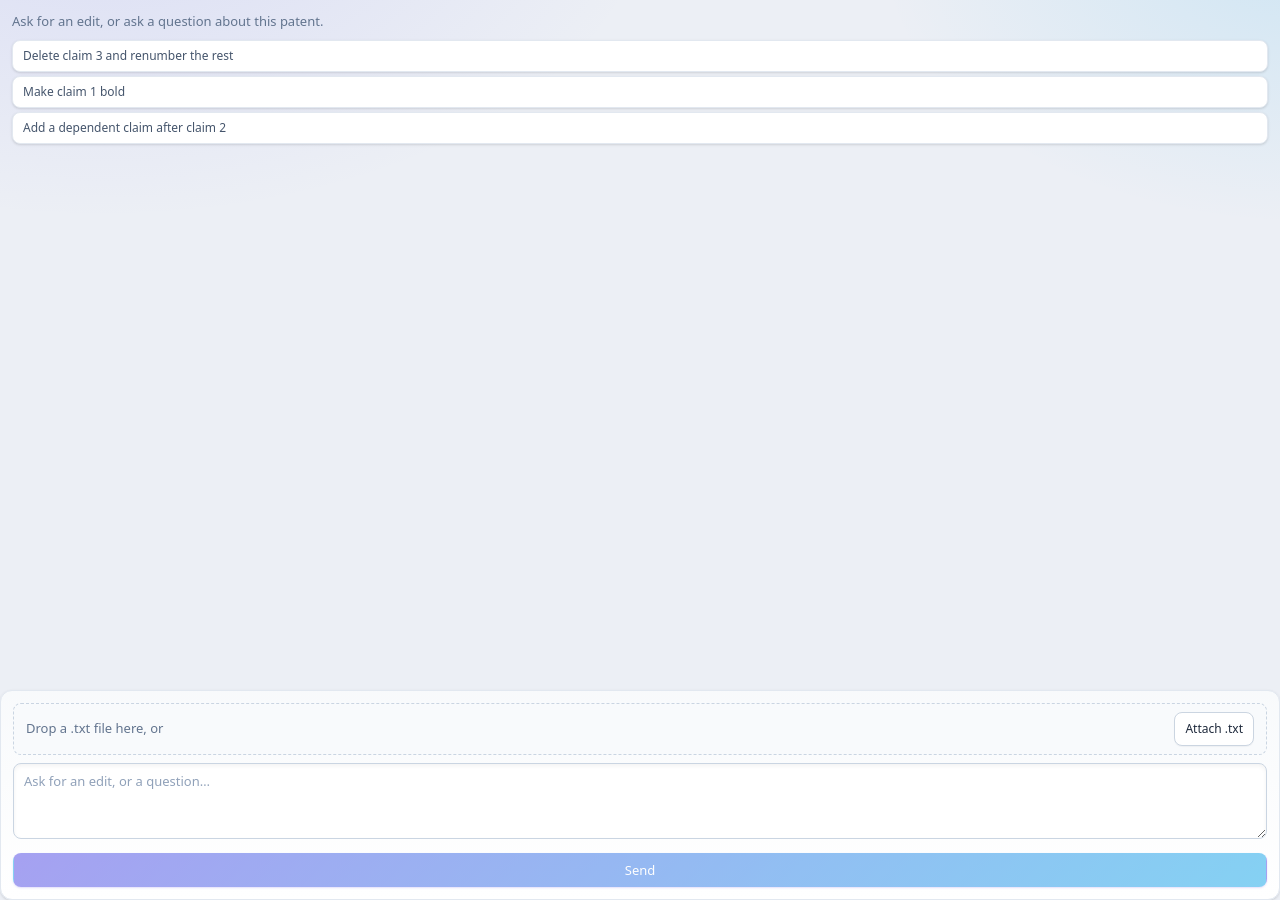
it: CP-02 the first document change on a version prompts
Type "delete claim 3" into the text box named "Ask the AI" at (640, 801), box [13,762,1267,839]
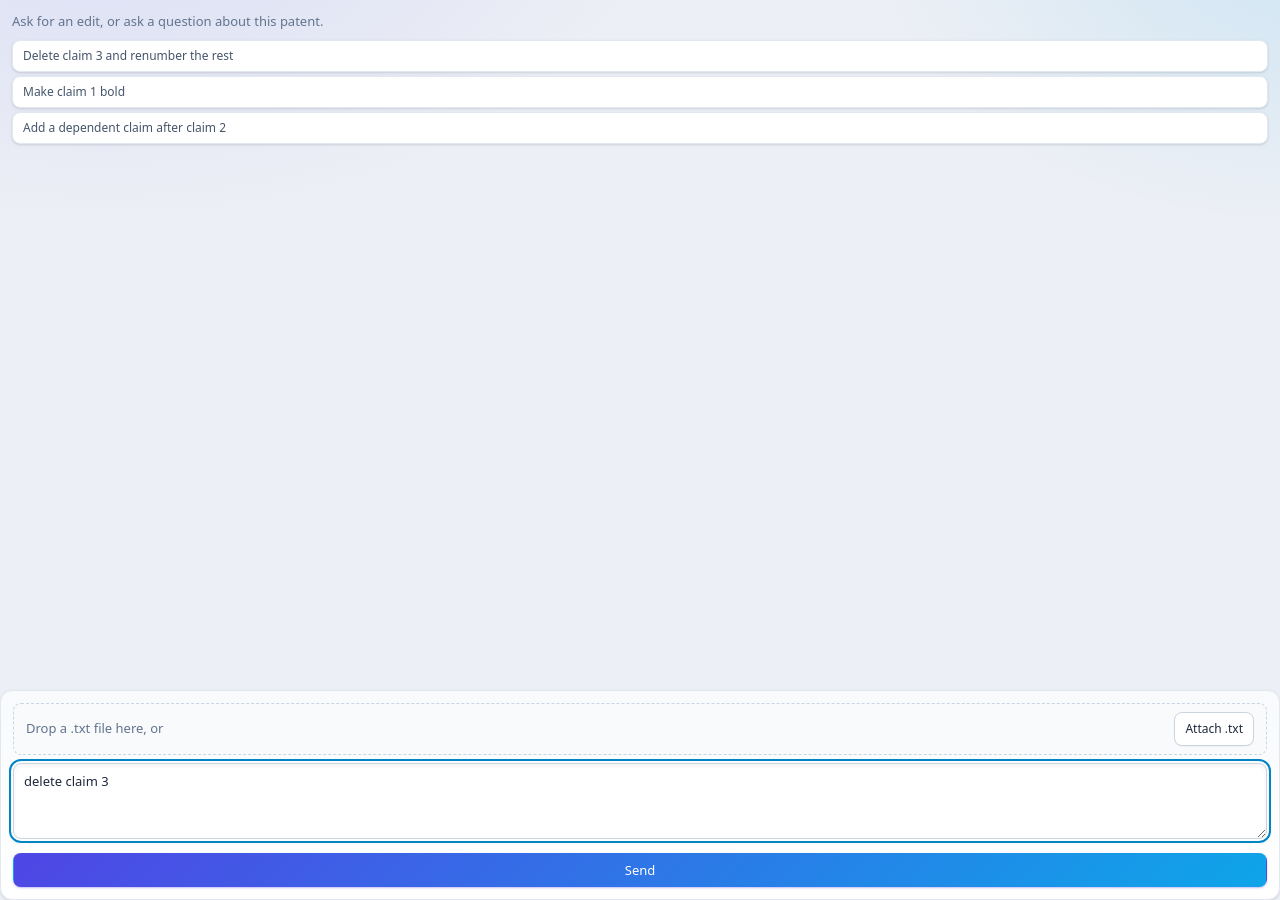
Click the button "Send" at (640, 870), box [13,853,1267,887]
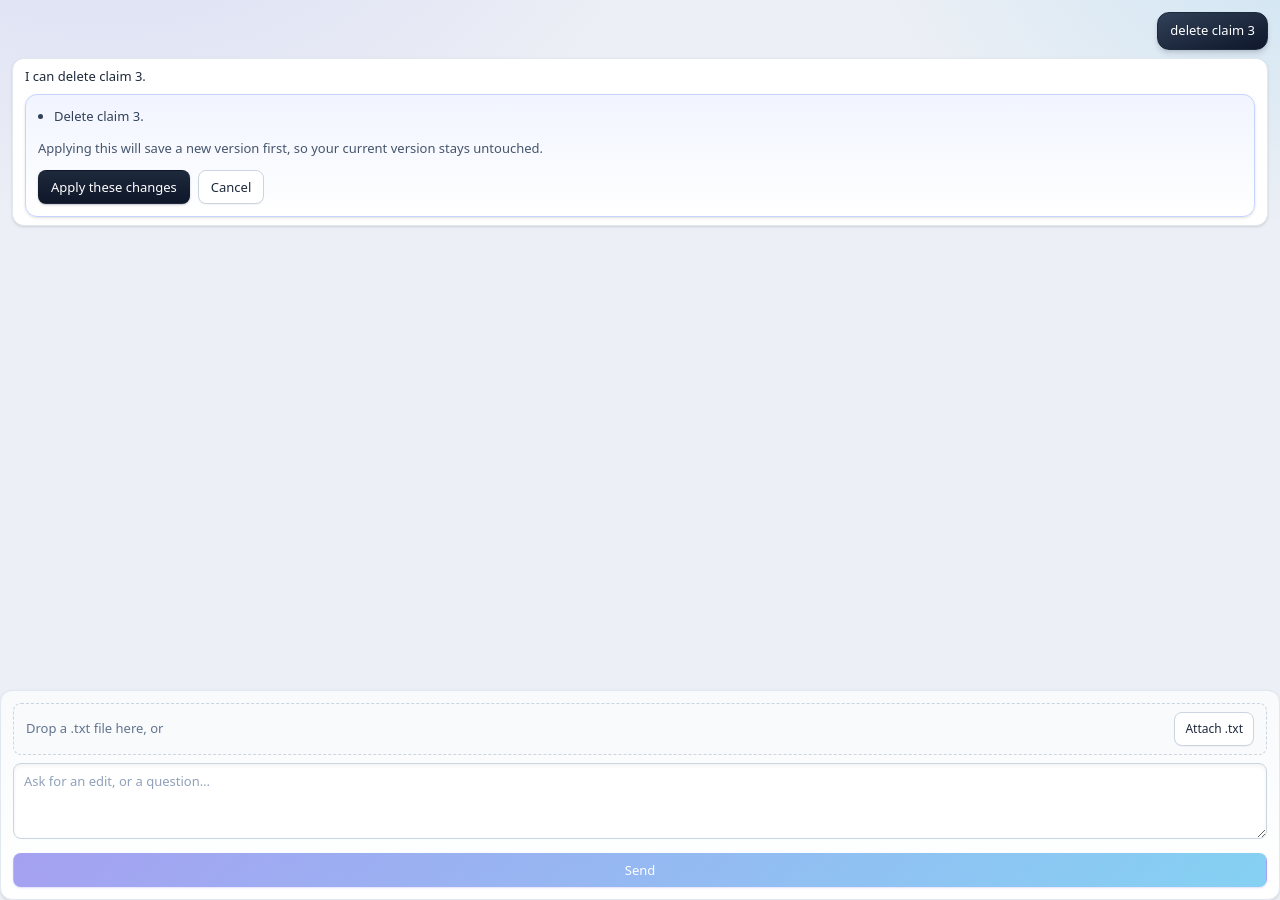
Expected: the button "Apply these changes" is shown, [38,170,190,204]
